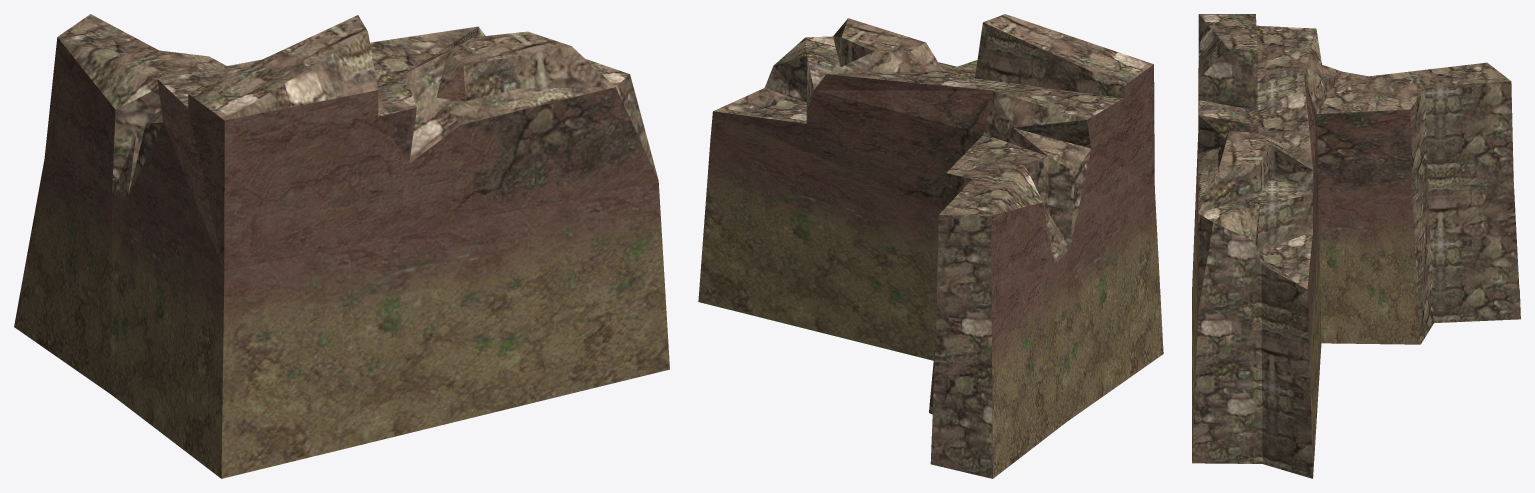
File: C1SMDEBRIWB1.obj
3 renders of one model, left to right at view 1: azimuth 30°, elevation 25°; view 2: azimuth 150°, elevation 25°; view 3: azimuth 270°, elevation 25°, orthographic. The views are drawn at different scales.
Parts seen in each view (by area): view 1: Node 0; view 2: Node 0; view 3: Node 0.
Part boxes in pixels (<box>): Node 0: <box>14,14,669,478</box>; Node 0: <box>698,14,1163,478</box>; Node 0: <box>1192,14,1520,478</box>.
Bounding box in the file's own units: 7.96 × 6.07 × 5.87.
Materials: 3 (3 with a texture image).
